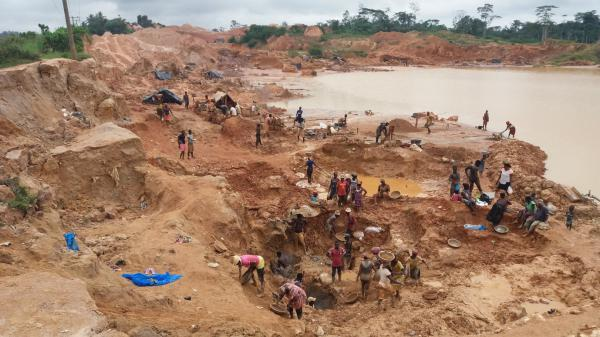MiningTool: (268, 303, 288, 316), (380, 248, 396, 261), (447, 236, 462, 249), (335, 233, 352, 241), (494, 224, 509, 233), (241, 274, 252, 284), (391, 189, 402, 198), (345, 298, 357, 304)
Person: (271, 282, 308, 319), (232, 256, 268, 292), (378, 263, 403, 312), (522, 199, 552, 237), (285, 215, 312, 255), (403, 251, 429, 289), (355, 253, 376, 299), (326, 241, 348, 282), (464, 159, 486, 196), (486, 193, 511, 222), (496, 159, 514, 195), (516, 196, 536, 228), (446, 164, 462, 199), (393, 258, 405, 303), (300, 158, 321, 183), (275, 250, 293, 278), (461, 183, 475, 214), (325, 211, 341, 238), (374, 179, 391, 204), (373, 120, 390, 144), (337, 175, 350, 206), (562, 204, 577, 230), (345, 209, 359, 236), (185, 129, 197, 160), (294, 118, 307, 145), (354, 182, 367, 207), (343, 236, 353, 268), (503, 119, 518, 140), (328, 171, 339, 199), (177, 128, 186, 161), (253, 122, 264, 149), (477, 153, 488, 180), (350, 175, 361, 201), (162, 104, 173, 126), (423, 111, 433, 135), (482, 107, 490, 132), (182, 92, 192, 110), (338, 114, 348, 127), (295, 105, 304, 119), (452, 188, 461, 201), (204, 94, 211, 110), (310, 190, 319, 202), (230, 105, 238, 115), (325, 189, 331, 201)
Structure: (141, 88, 182, 104), (211, 89, 239, 106)
